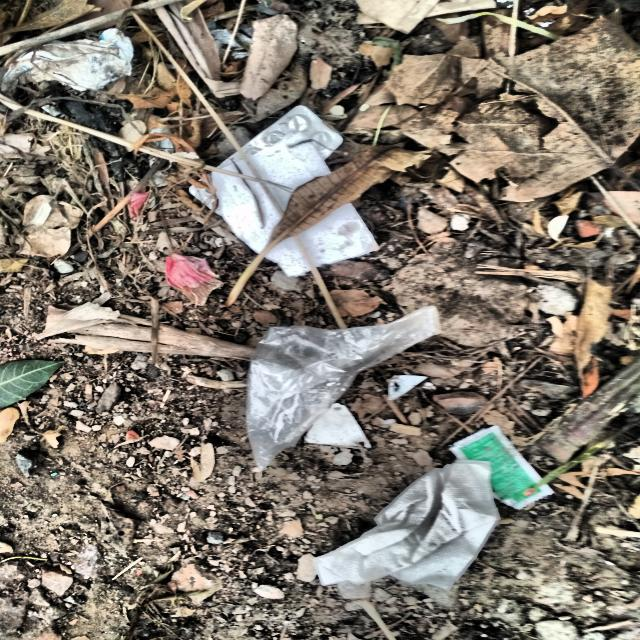anorganik: (240, 301, 449, 467), (448, 426, 556, 510)
organik: (340, 4, 640, 203), (320, 460, 501, 585)
